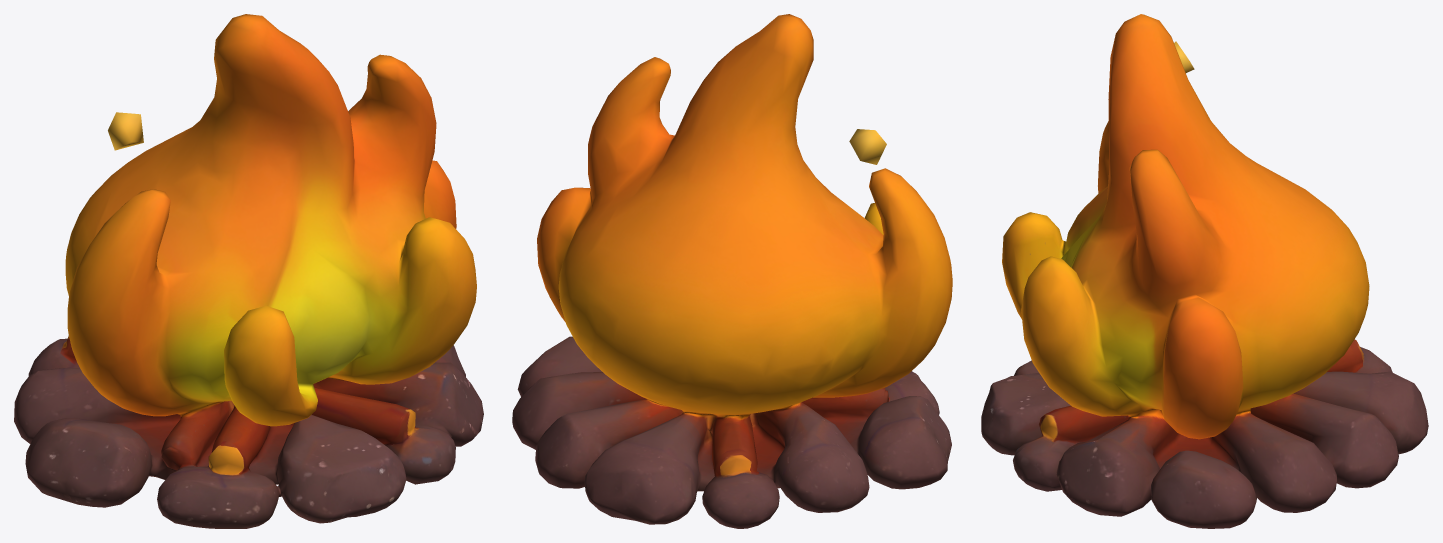
The model's file is fogata 3d modelo.glb.
3 views of the same model, side by side, from view 1: azimuth 30°, elevation 25°; view 2: azimuth 150°, elevation 25°; view 3: azimuth 270°, elevation 25° (orthographic). The views are drawn at different scales.
Parts seen in each view (by area): view 1: tripo_node_b4e6b791-00e7-400f-b742-7a4288daab88; view 2: tripo_node_b4e6b791-00e7-400f-b742-7a4288daab88; view 3: tripo_node_b4e6b791-00e7-400f-b742-7a4288daab88.
Part boxes in pixels (x1,y1,x2,y2): tripo_node_b4e6b791-00e7-400f-b742-7a4288daab88: (14,14,483,528); tripo_node_b4e6b791-00e7-400f-b742-7a4288daab88: (512,14,952,528); tripo_node_b4e6b791-00e7-400f-b742-7a4288daab88: (981,14,1428,528).
Bounding box in the file's own units: 1 × 0.9899 × 0.9656.
1 material, 1 textured.
